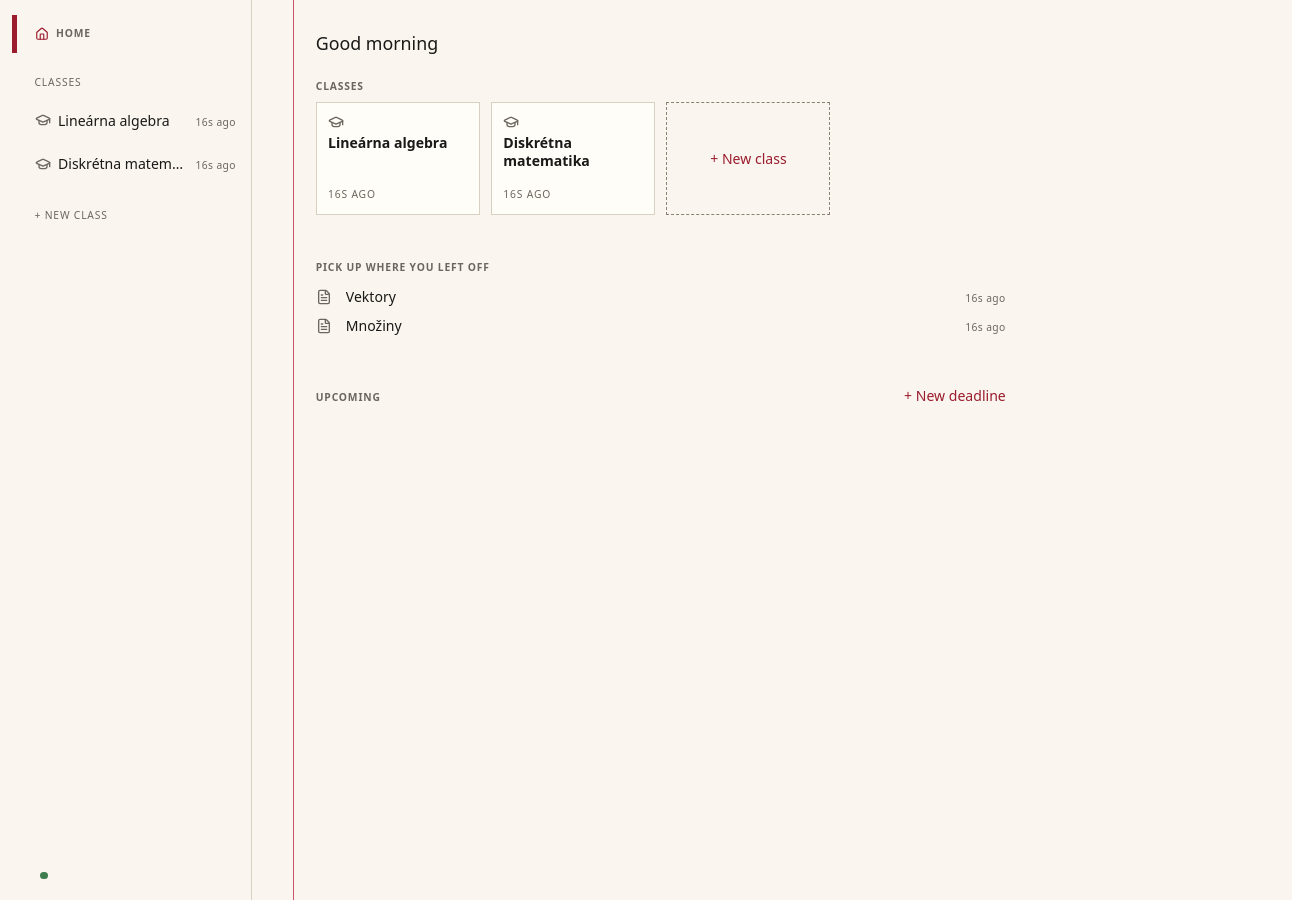
Test: App class rail › filters the note list to the class that was clicked
This screenshot has width=1292, height=900.
Click the 1st button "Diskrétna matematika 16s ago": coordinates (132, 164) [12,142,251,186]
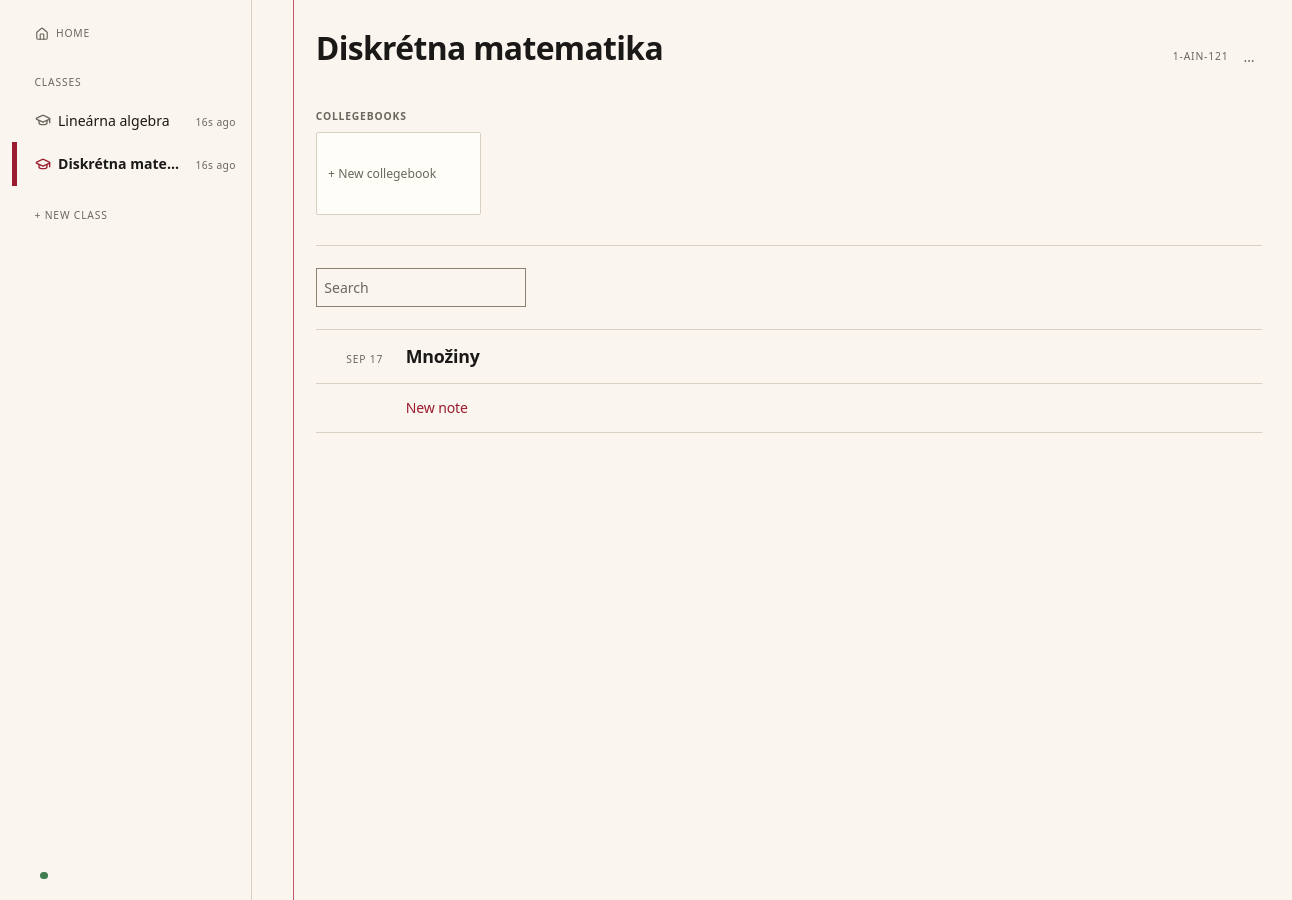
Check: the button "Množiny Sep 17" is shown, box [316,330,1262,383]
Check: the button "Vektory" is gone
Check: the heading "Diskrétna matematika" is shown, box [316,30,663,65]
